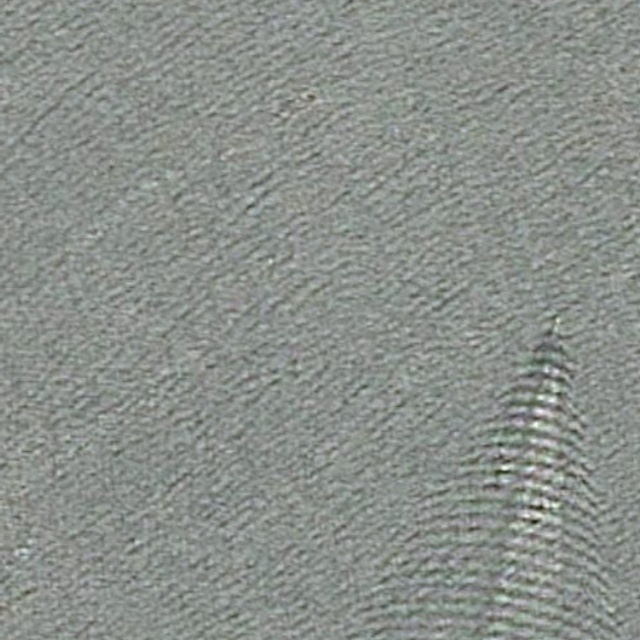wake: (437, 285, 627, 574)
